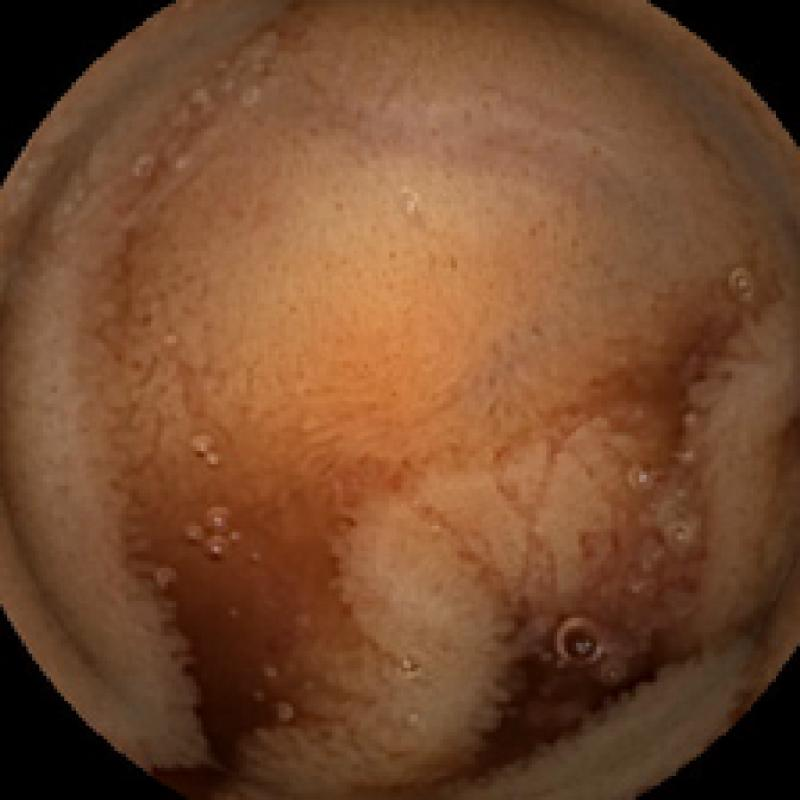bleeding: (425, 678, 654, 772), (133, 690, 291, 786)
